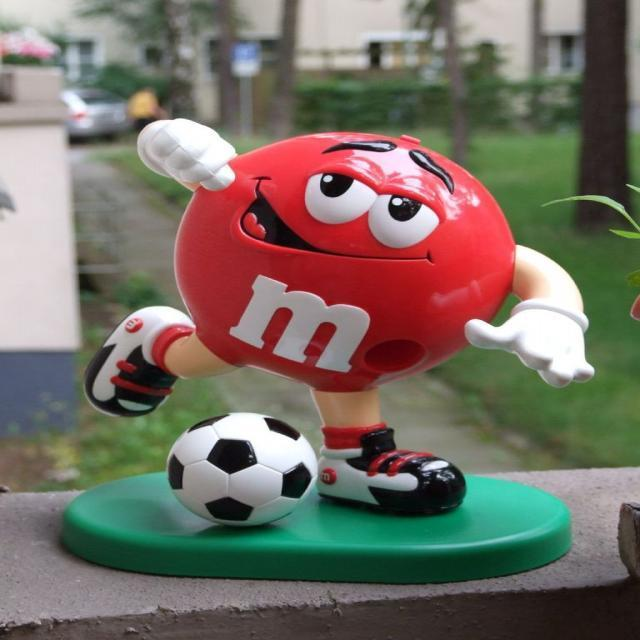football: (162, 412, 322, 520)
